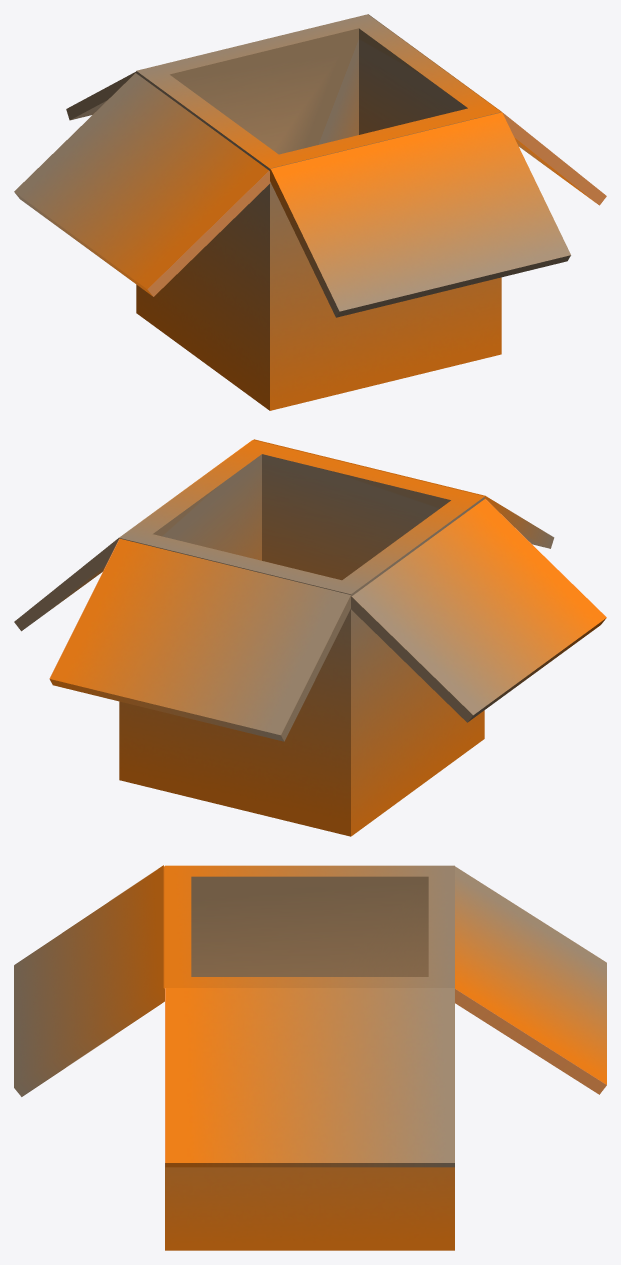
The model's file is karton.glb.
3 views of the same model, one above another, from view 1: azimuth 30°, elevation 25°; view 2: azimuth 150°, elevation 25°; view 3: azimuth 270°, elevation 25° (orthographic). The views are drawn at different scales.
Visible parts, largest first — view 1: Cube; view 2: Cube; view 3: Cube.
Boxes of the visible parts, x1,y1,x2,y2 form: Cube: (14,14,606,410); Cube: (14,439,606,836); Cube: (14,865,606,1250).
Size of the model in its own units: 3.97 by 2 by 4.09.
Materials: 1 (1 with a texture image).
